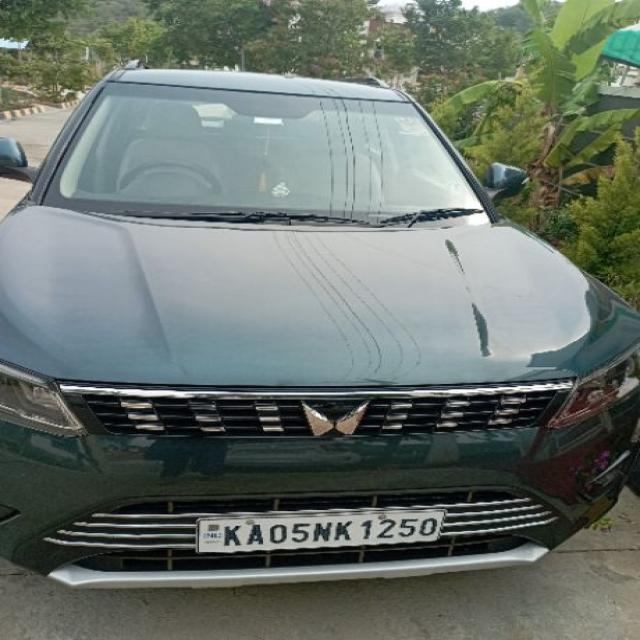license_plate: (194, 506, 446, 554)
